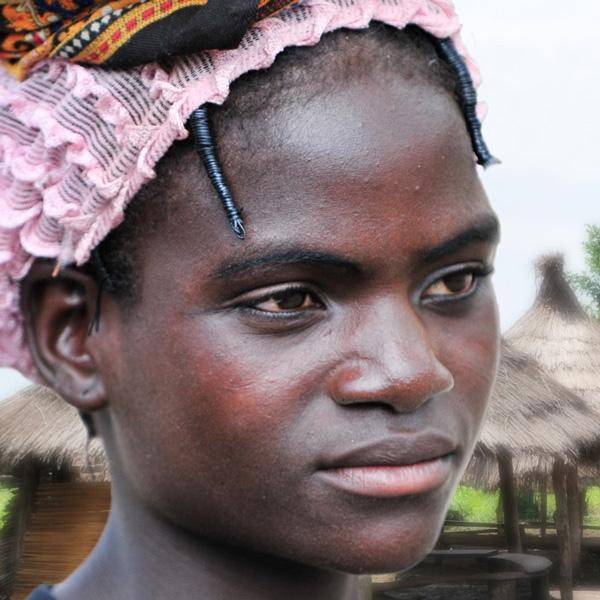Eyes: (211, 266, 349, 335), (408, 251, 497, 318)
